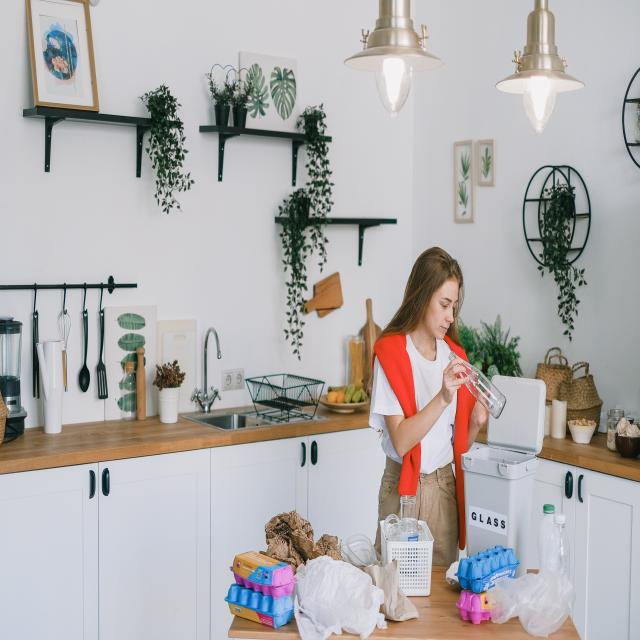glass: (477, 380, 505, 418)
plastic: (230, 559, 290, 621), (461, 551, 515, 615), (542, 511, 568, 606)
